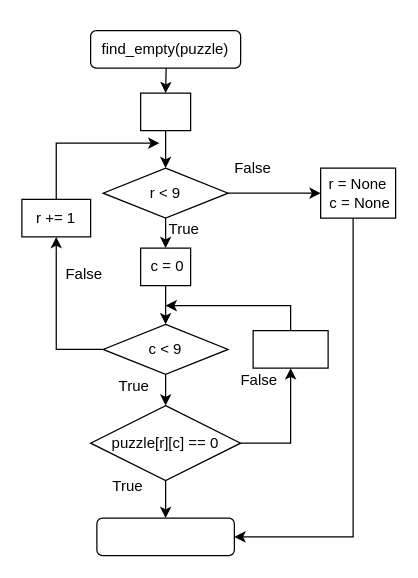
Some shapes in this 418 by 578 pixel diagram are drawn without their labels. Each missing label, with the box of its shape:
c += 1: (252, 329, 328, 368)
r = 0: (139, 92, 191, 131)
return r, c: (96, 517, 234, 556)
